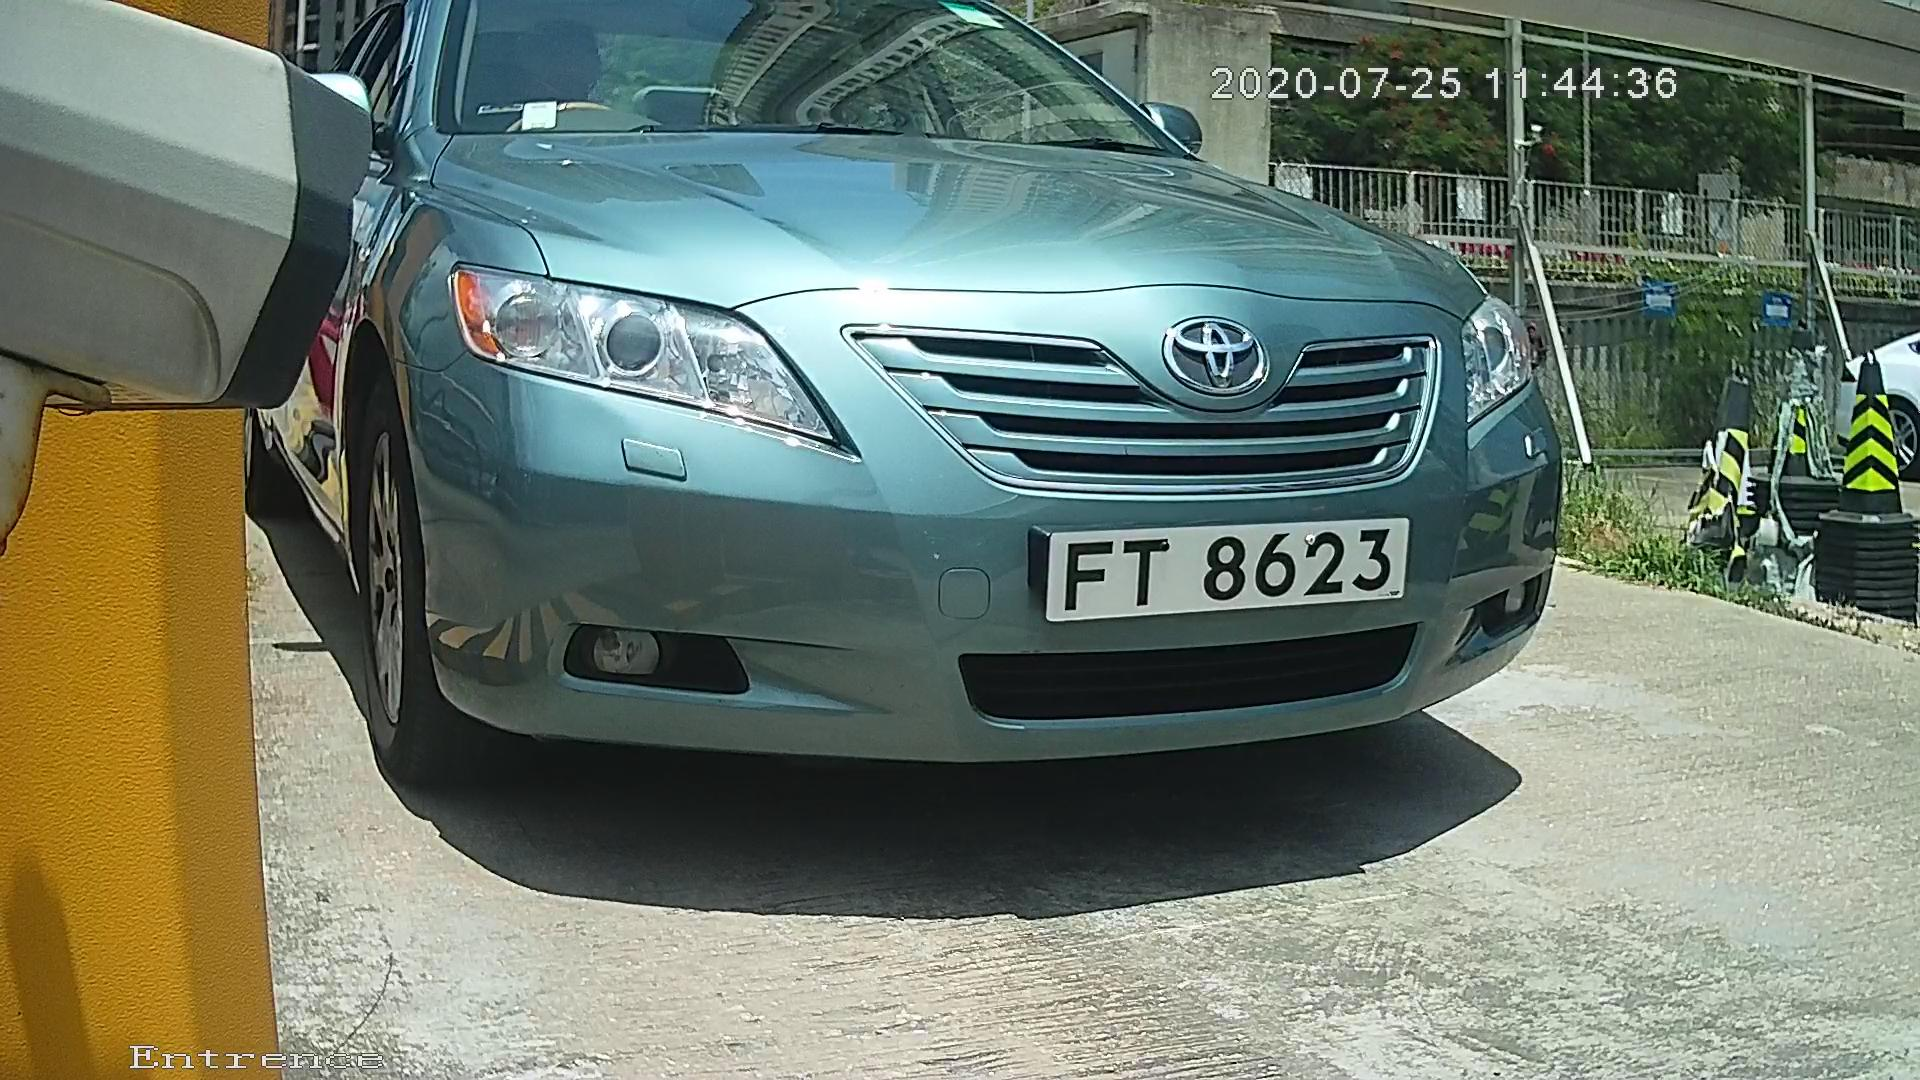Car: (69, 1, 1706, 868)
License Plate: (1003, 502, 1432, 637)
